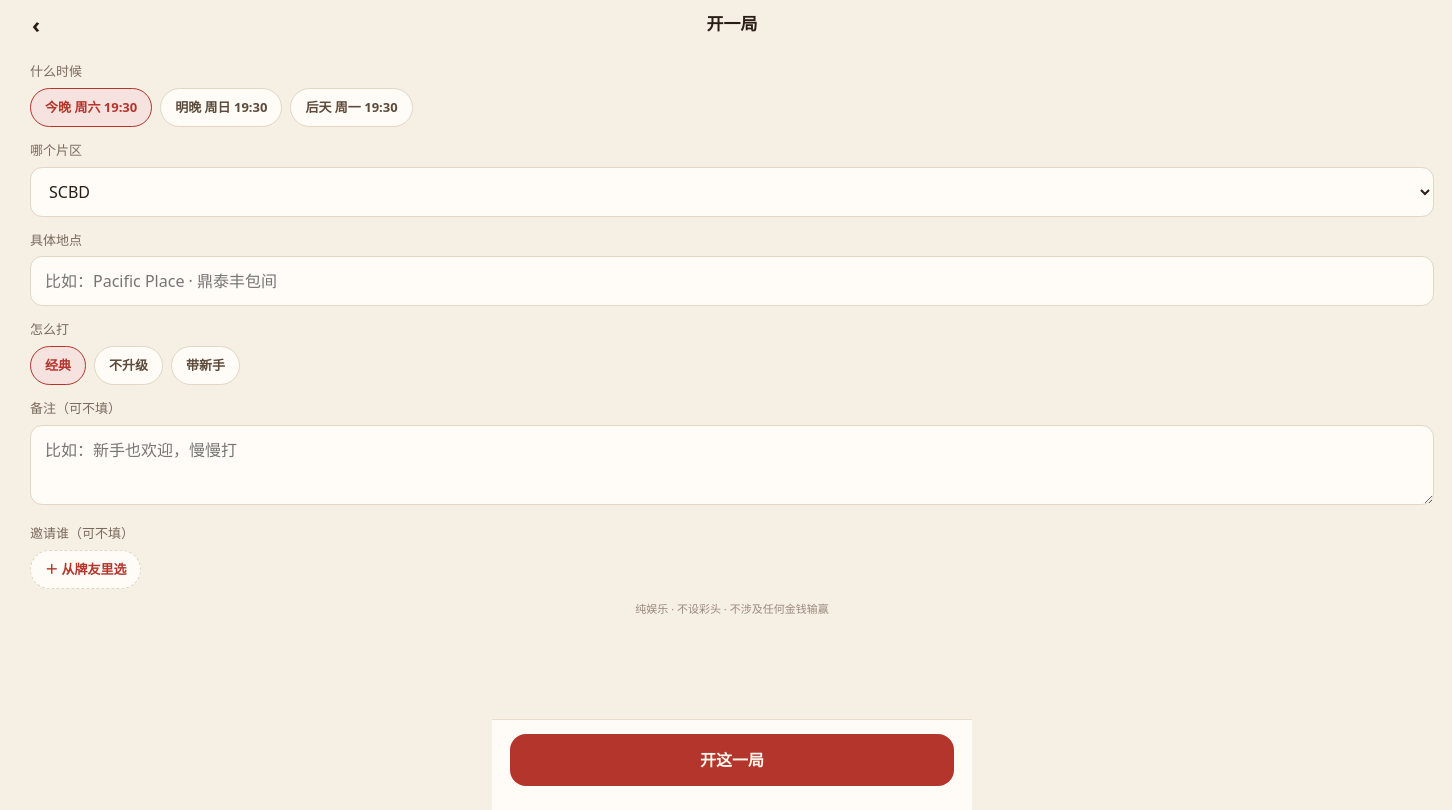
it: 敏感词（§14、原型 X1） › 地点命中时，提示在地点下面
Type "筹码酒吧" into the field labelled "具体地点".
click(732, 281); type("筹码酒吧")  # box top-left (30, 256), bottom-right (1434, 306)
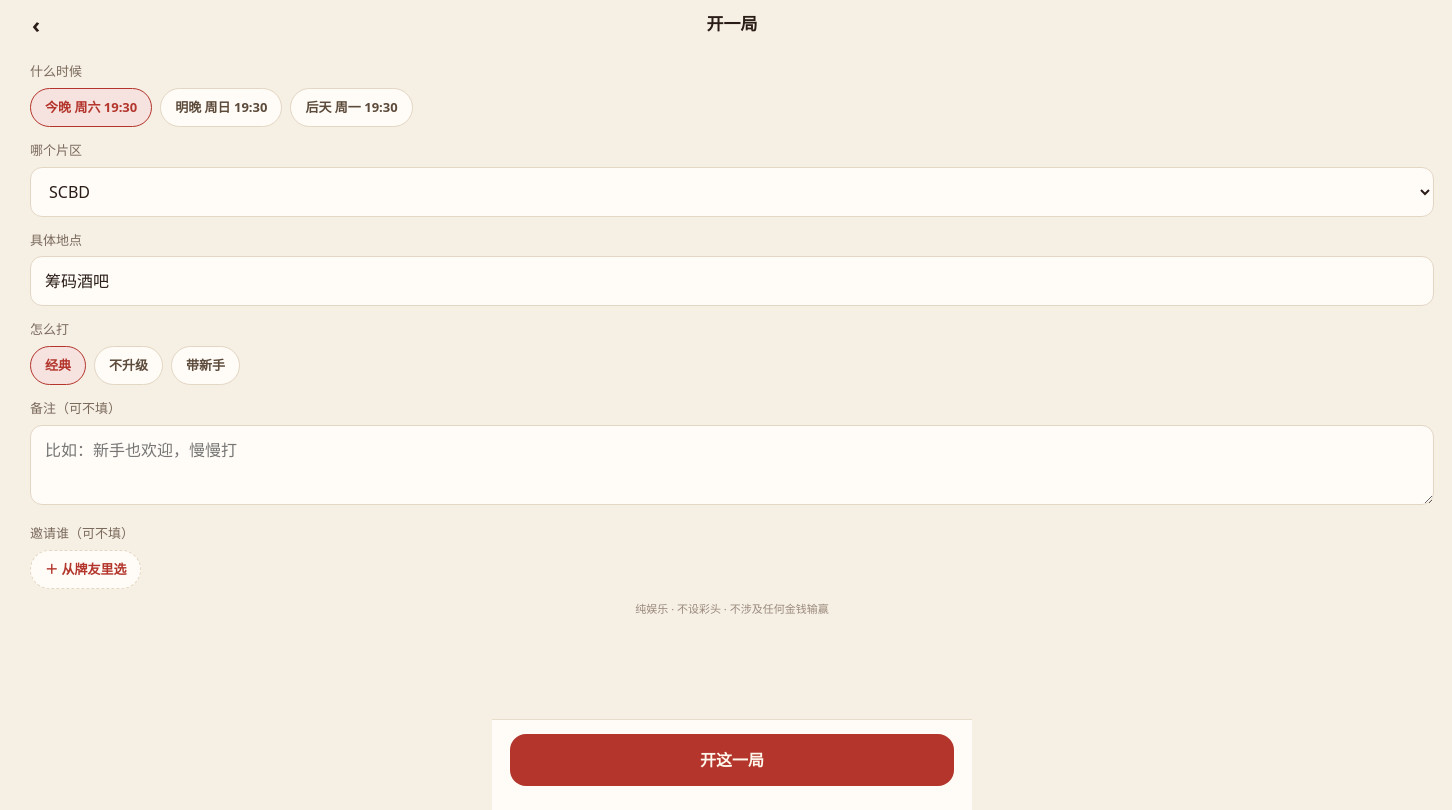
Click the button "开这一局".
click(732, 760)  # box top-left (510, 734), bottom-right (954, 786)
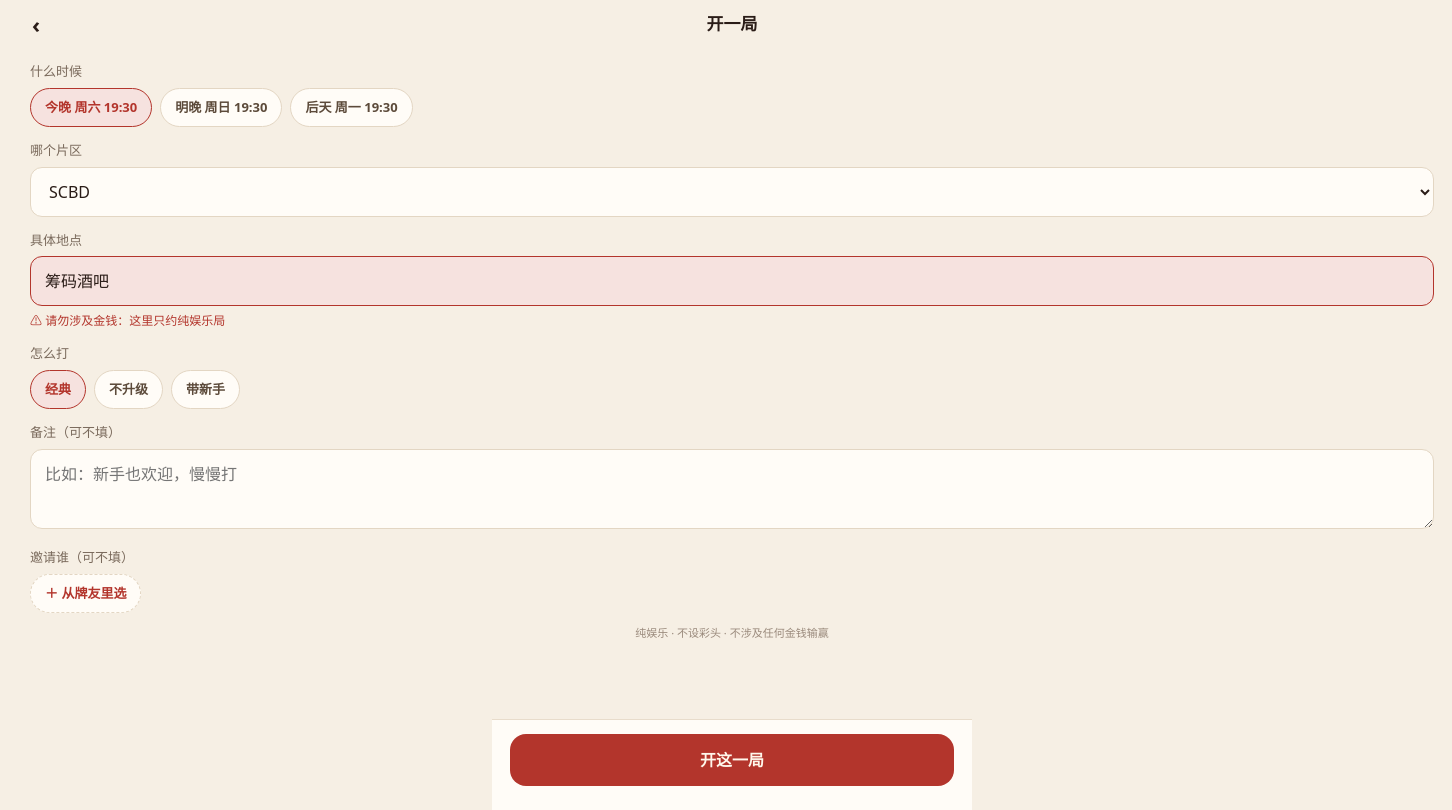
expect the text "⚠ 请勿涉及金钱：这里只约纯娱乐局" is shown: met, box top-left (30, 312), bottom-right (225, 329)
